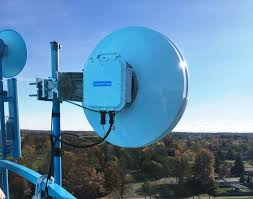ba: (71, 19, 200, 163), (4, 16, 30, 87)
sa: (8, 75, 25, 164), (43, 37, 62, 90)
